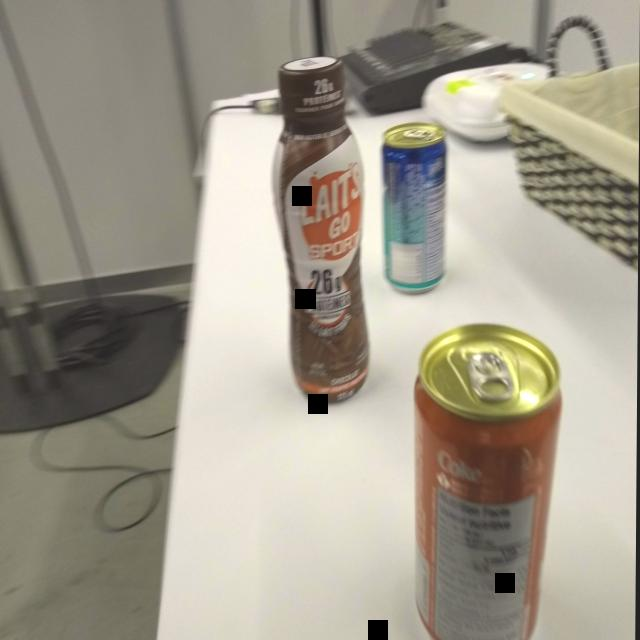chocolate_drink: (262, 51, 378, 413)
coke: (405, 319, 565, 640)
sprite: (380, 114, 451, 302)
